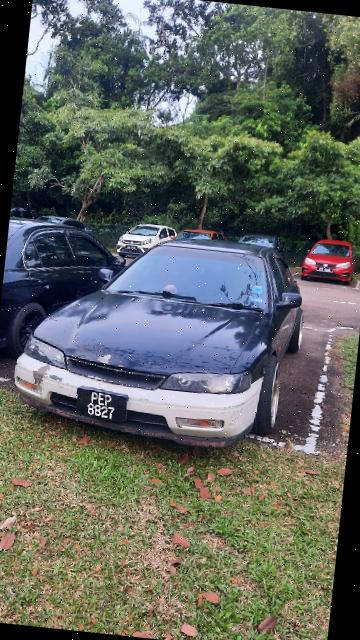License_Plate: (73, 384, 134, 429)
car: (1, 214, 312, 462), (1, 204, 133, 364), (294, 227, 360, 286), (121, 212, 179, 264)
